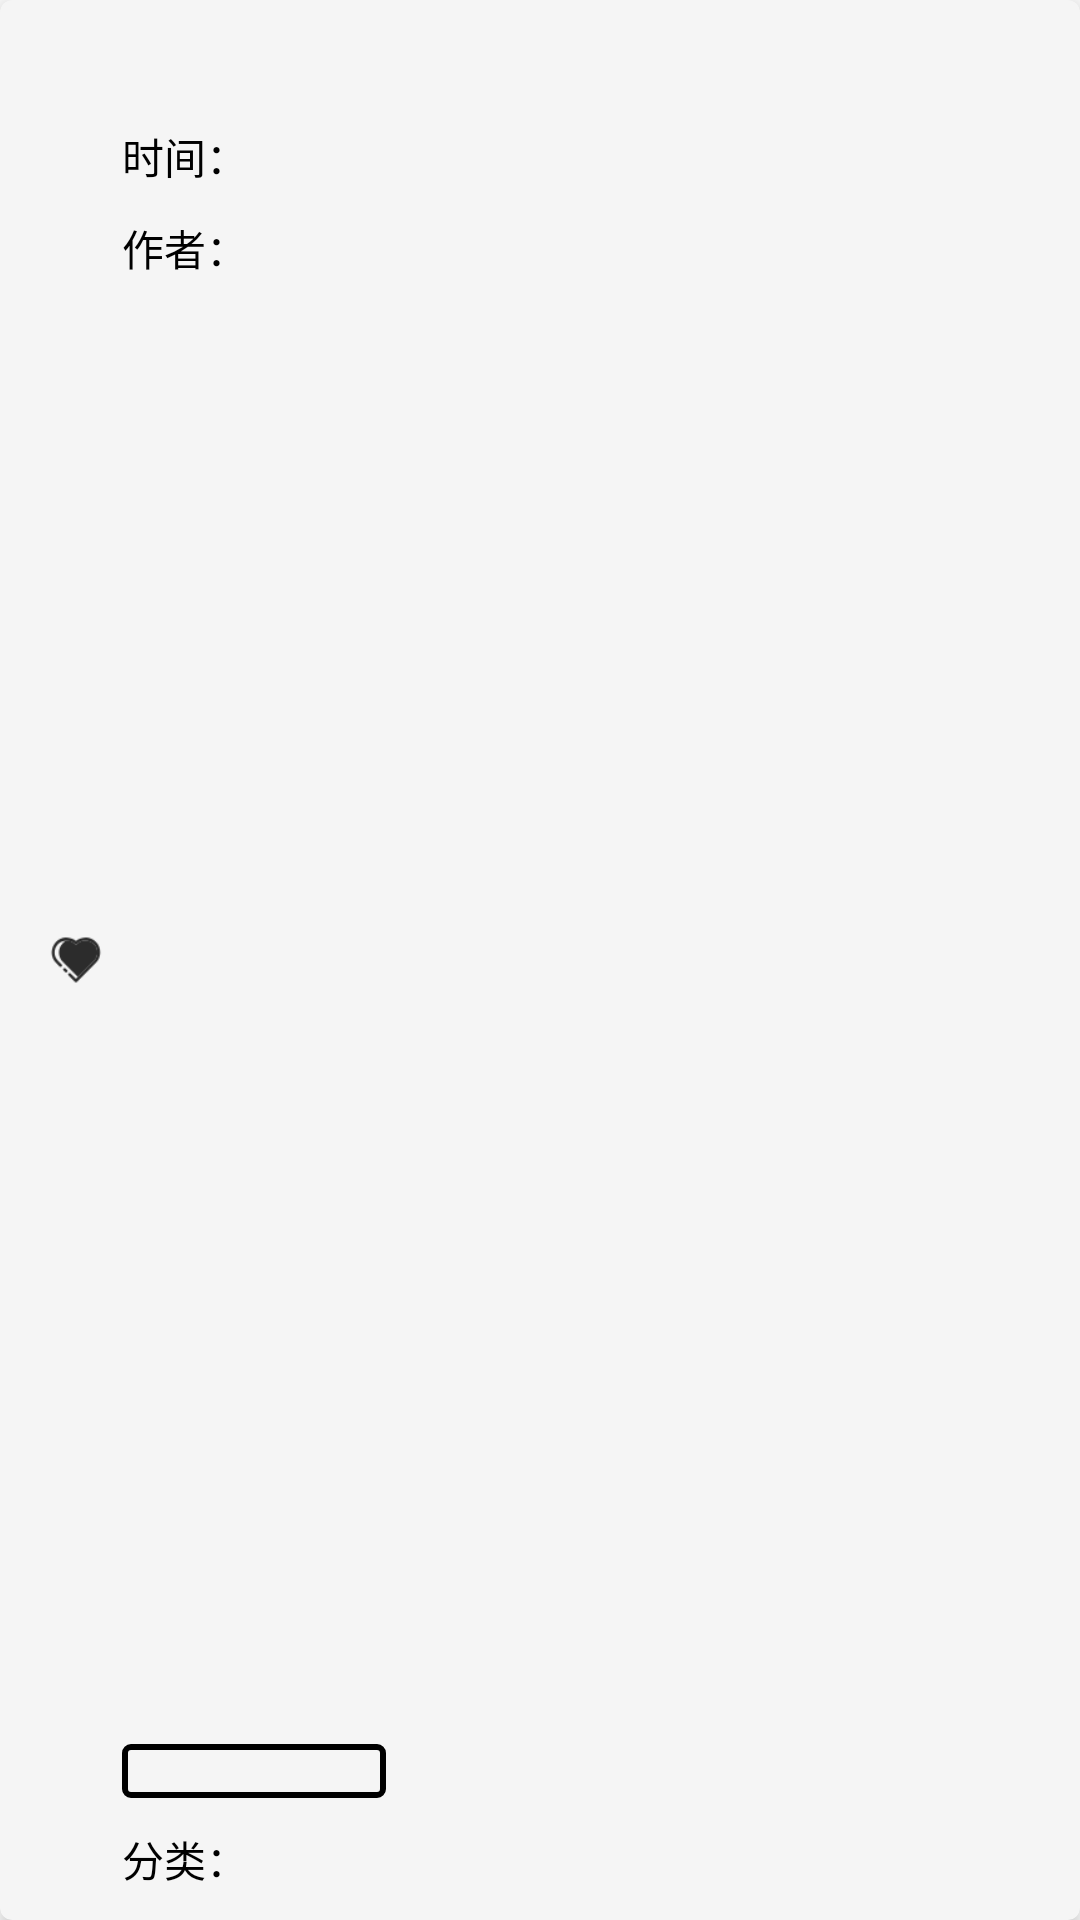

Screen size 1080×1920. Icon name, then its box in pixels as (x1, y1, x2, y2):
love: (51, 937, 101, 983)
